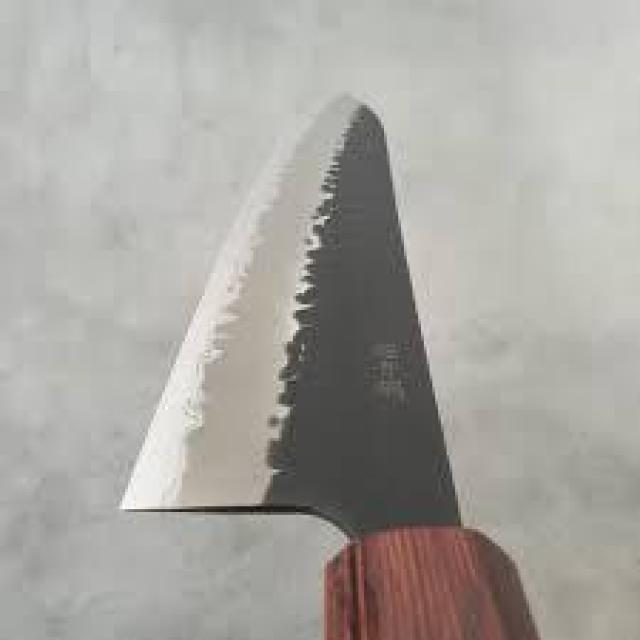Knife: (107, 80, 468, 632)
